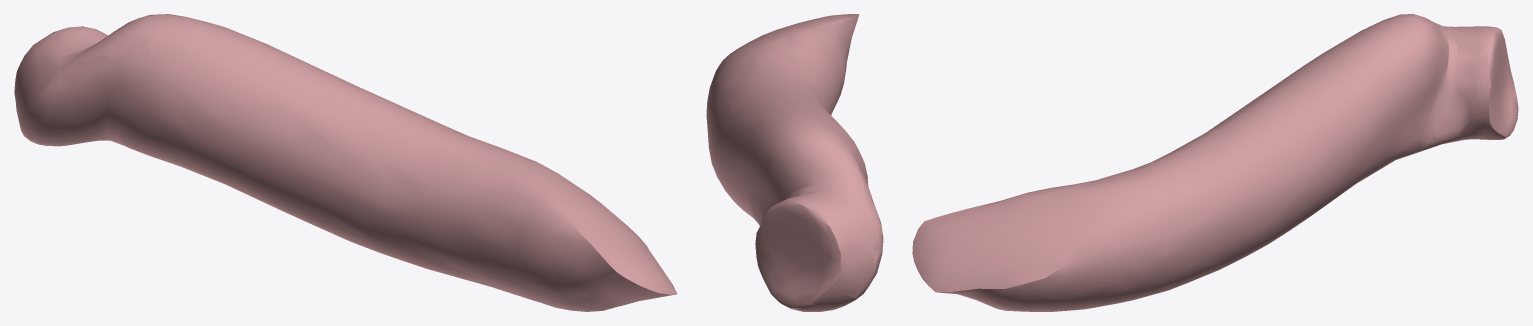
File: fma9484_mm586.glb
3 views of the same model, side by side, from view 1: azimuth 30°, elevation 25°; view 2: azimuth 150°, elevation 25°; view 3: azimuth 270°, elevation 25° (orthographic). The views are drawn at different scales.
Visible parts, largest first — view 1: FMA9484_MM586; view 2: FMA9484_MM586; view 3: FMA9484_MM586.
Part boxes in pixels (x1,y1,x2,y2): FMA9484_MM586: (14,14,677,311); FMA9484_MM586: (706,14,883,311); FMA9484_MM586: (912,14,1518,311).
Bounding box in the file's own units: 0.00668 × 0.00332 × 0.00971.
